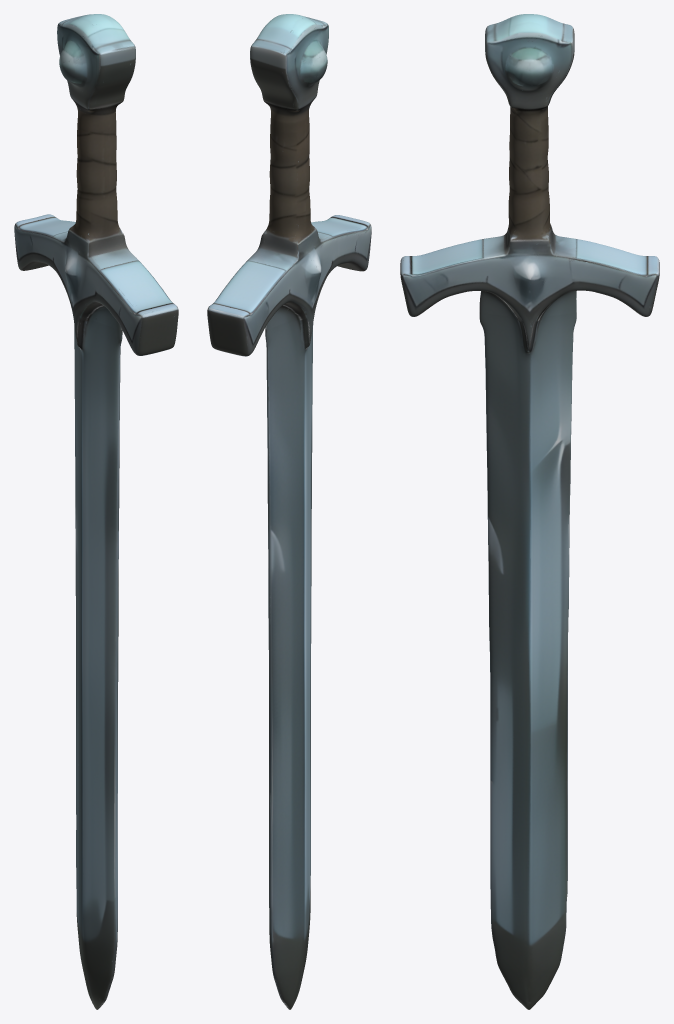
The model's file is Sword 08.fbx.
The picture shows the model from 3 angles, left to right: view 1: azimuth 30°, elevation 25°; view 2: azimuth 150°, elevation 25°; view 3: azimuth 270°, elevation 25°; orthographic projection.
Visible parts, largest first — view 1: Sword 08; view 2: Sword 08; view 3: Sword 08.
Part boxes in pixels (x1,y1,x2,y2): Sword 08: (14,14,178,1009); Sword 08: (207,14,371,1009); Sword 08: (400,14,659,1009).
Bounding box in the file's own units: 13.71 × 189 × 44.76.
Materials: 1 (1 with a texture image).
